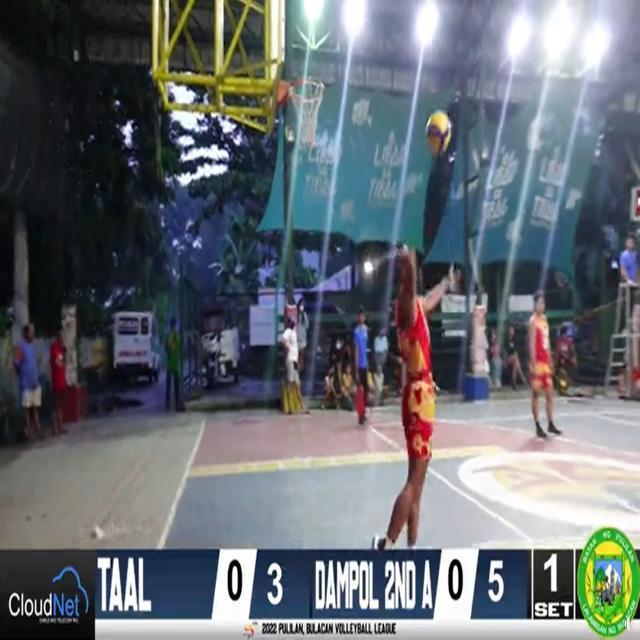volleyball: (425, 112, 451, 153)
